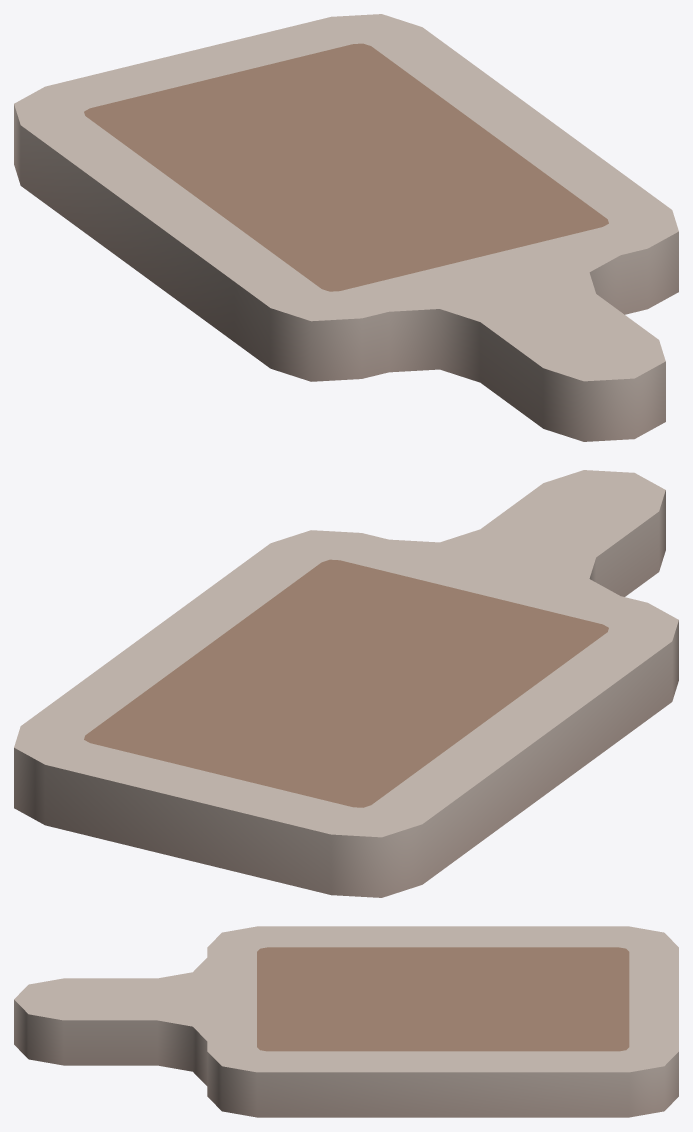
Rendered from cutting-board-long.glb.
The picture shows the model from 3 angles, top to bottom: view 1: azimuth 30°, elevation 25°; view 2: azimuth 150°, elevation 25°; view 3: azimuth 270°, elevation 25°; orthographic projection. The views are drawn at different scales.
Parts seen in each view (by area): view 1: cutting-board-long; view 2: cutting-board-long; view 3: cutting-board-long.
Part boxes in pixels (box(x1,y1,x2,y2)): cutting-board-long: box(14, 14, 678, 441); cutting-board-long: box(14, 470, 678, 897); cutting-board-long: box(14, 926, 678, 1117).
Bounding box in the file's own units: 0.2776 × 0.04 × 0.5342.
